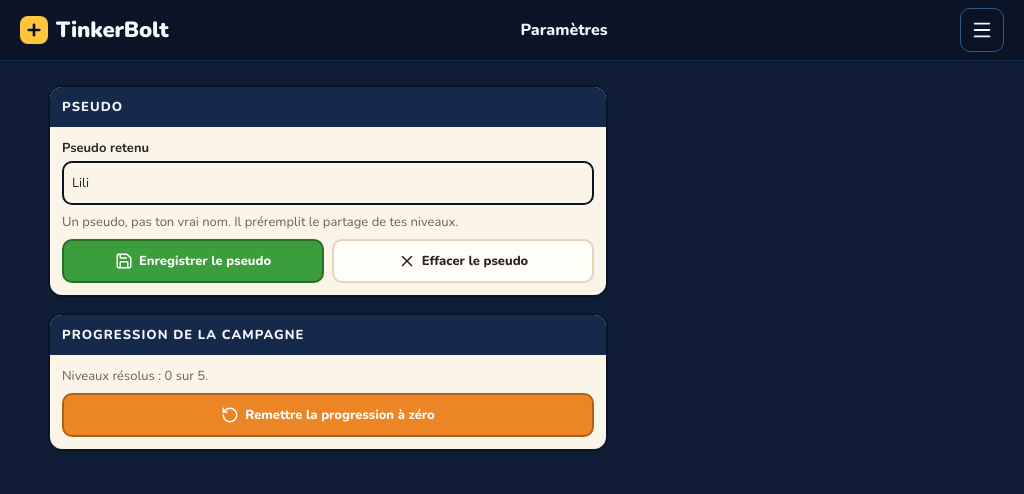
Test: Paramètres — pseudo retenu (U11, ADR 0016 § Pseudo) › dit qu’un pseudo n’a pas pu être enregistré, sans exception
The image size is (1024, 494).
Replace the text in the field labelled "Pseudo retenu" with "Noé" at (328, 183), box [62,161,594,205]
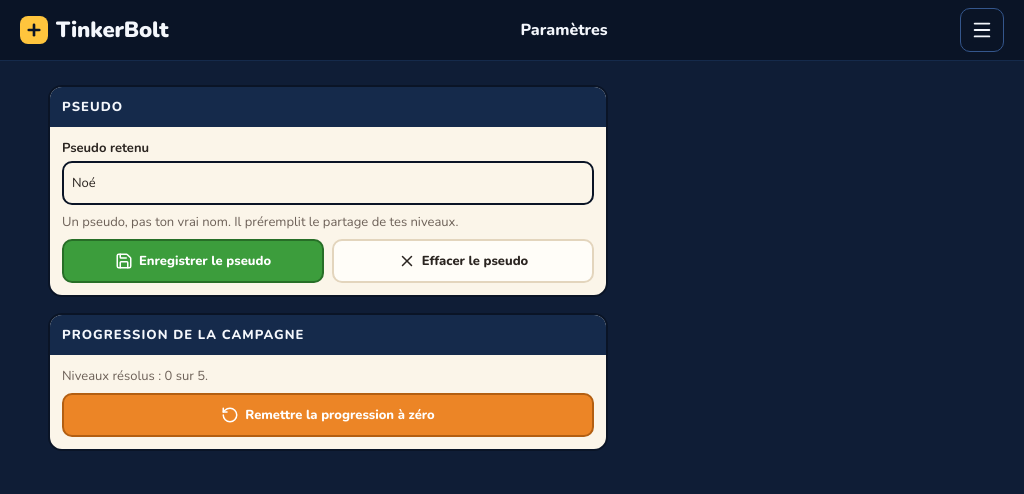
Click the button "Enregistrer le pseudo" at (193, 261), box [62,239,324,283]
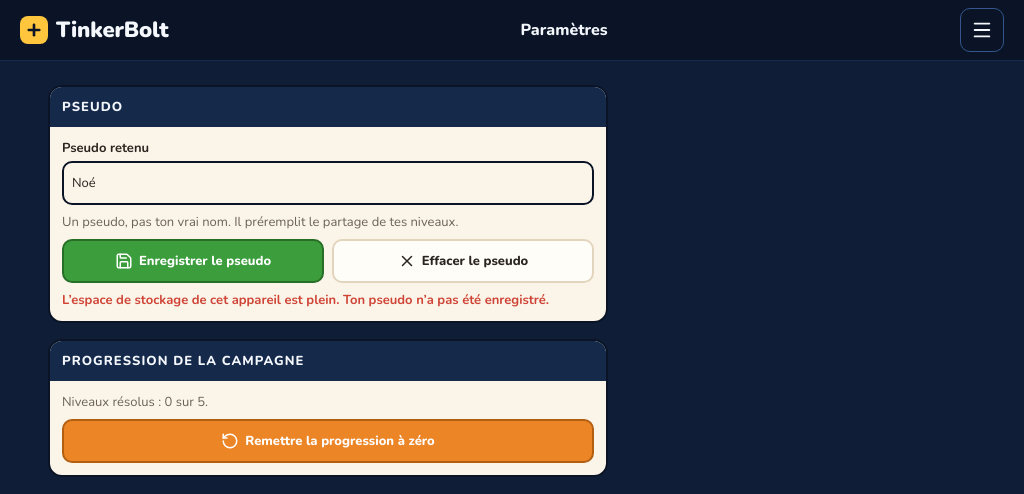
Expected: the message shows "L’espace de stockage de cet appareil est plein. Ton pseudo n’a pas été enregistré.", [62,291,549,309]
